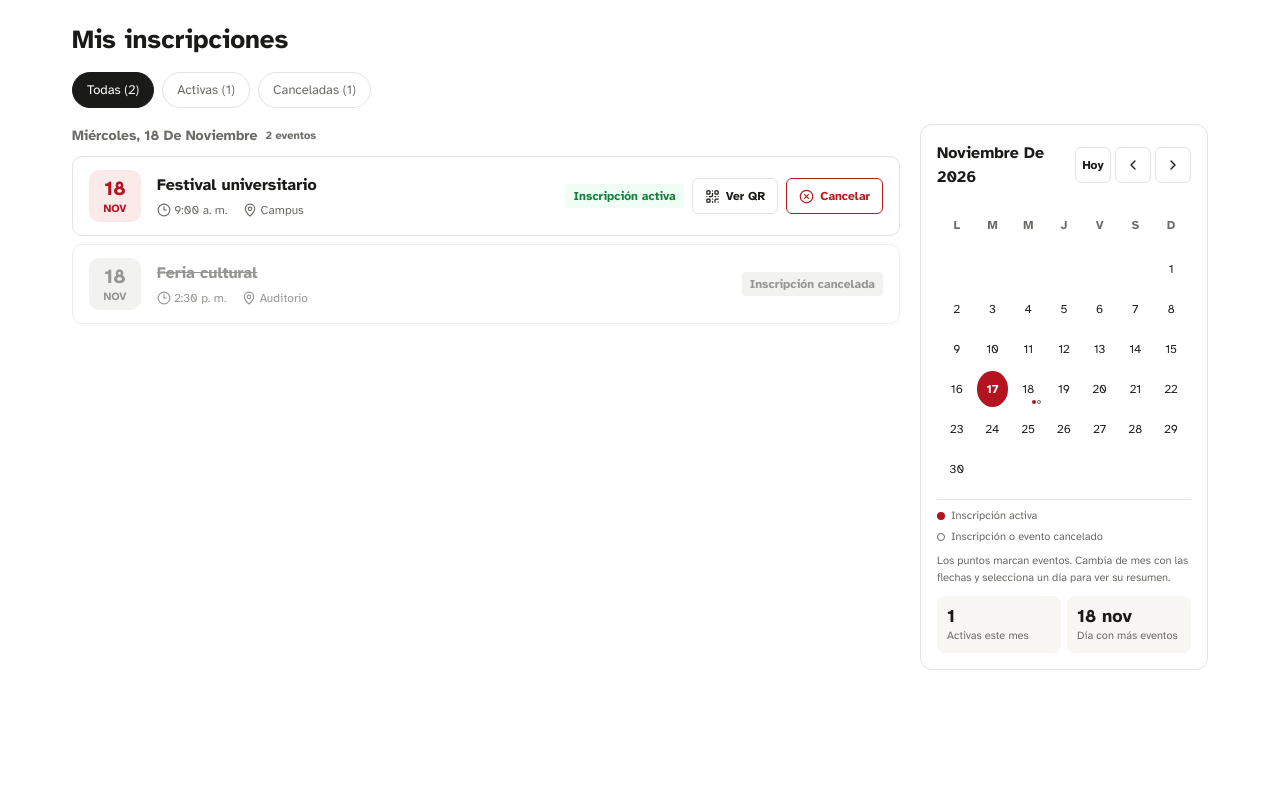
MisInscripciones › confirma la cancelación, actualiza el estado y deja de ofrecer cancelación
Click the button with aria-label "Cancelar inscripción a Festival universitario".
click(835, 196)  # box [786,178,883,214]
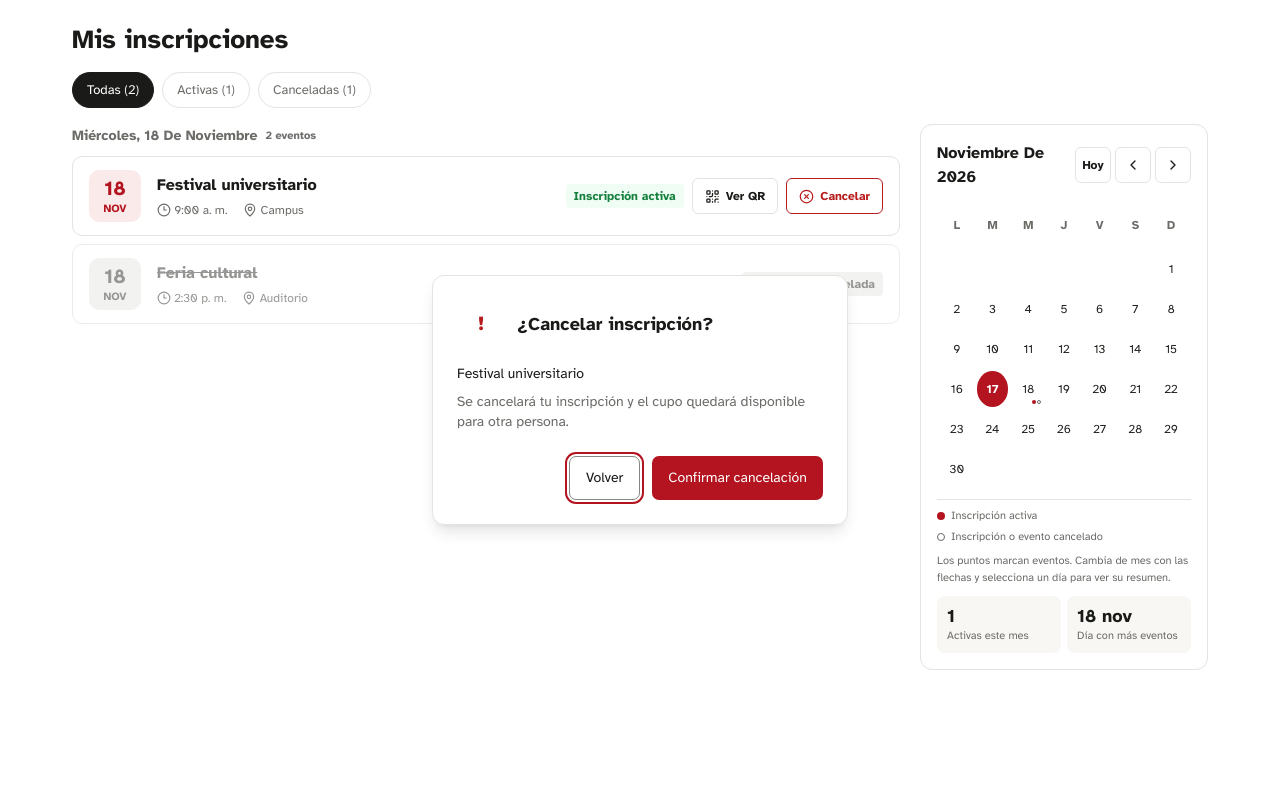
Now the dialog "¿Cancelar inscripción?" is shown, box [432,275,848,525]
Click the button "Confirmar cancelación".
click(738, 478)  # box [652,456,823,500]
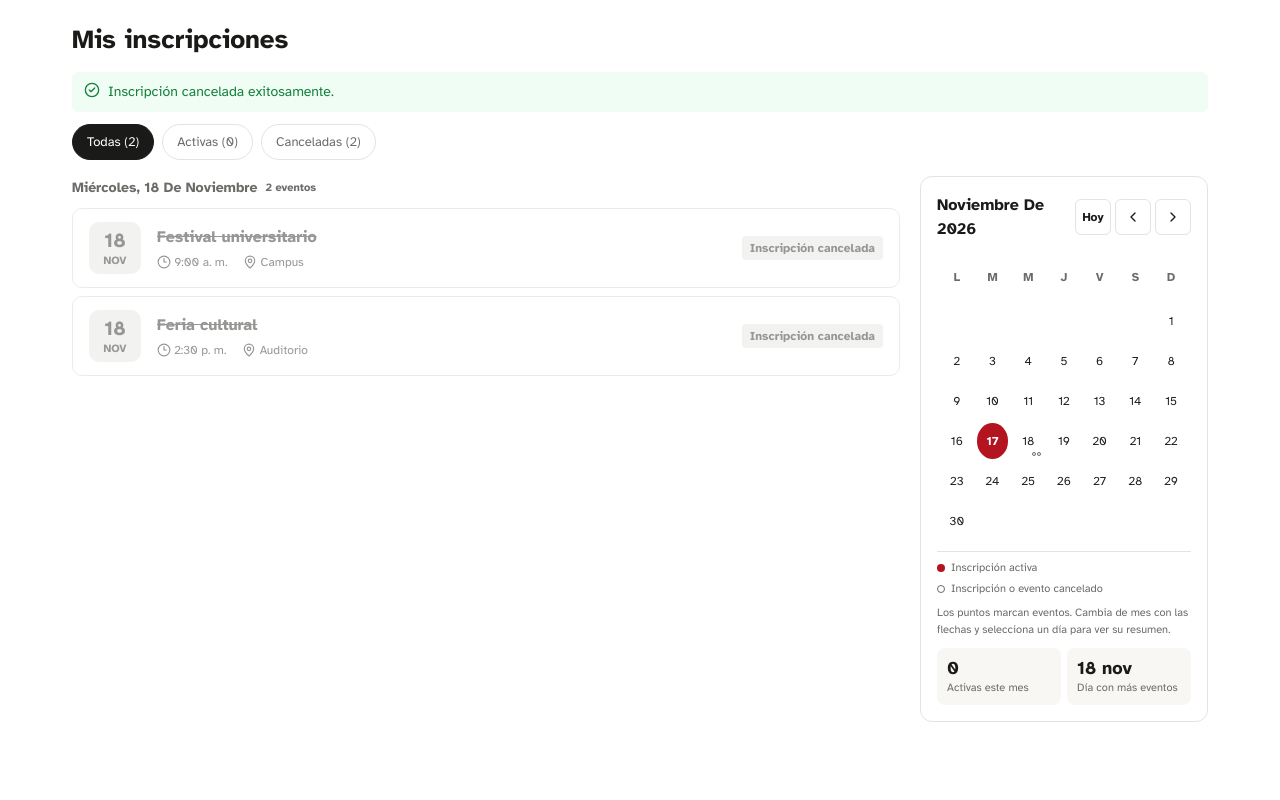
Now the message reads "Inscripción cancelada exitosamente.", box [108,83,334,100]
Now the button "Activas (0)" is shown, box [162,124,253,160]
Now the button "Canceladas (2)" is shown, box [261,124,376,160]
